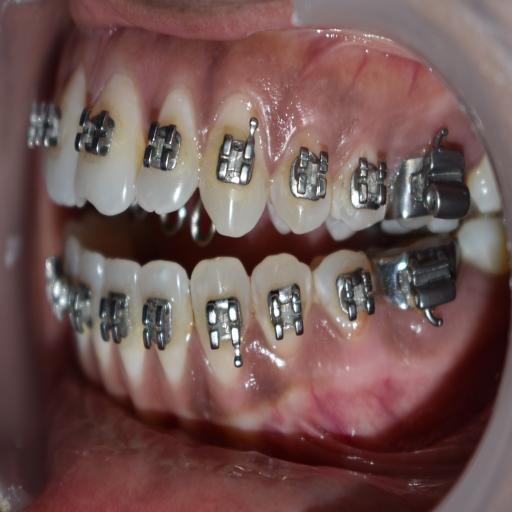correct_brace: (269, 125, 333, 238), (314, 253, 375, 337), (73, 107, 118, 170), (216, 131, 255, 192), (205, 295, 244, 355), (140, 296, 176, 354), (144, 118, 180, 172), (100, 290, 130, 349), (267, 284, 302, 331)
incorrect_brace: (136, 94, 202, 213), (189, 261, 252, 384), (288, 144, 331, 208), (334, 270, 376, 320)
